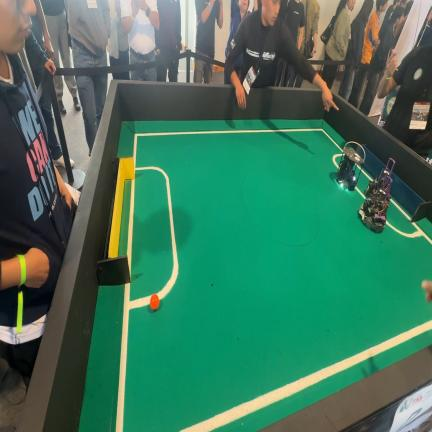limites: (133, 128, 343, 301), (180, 320, 432, 432), (116, 282, 151, 432), (386, 222, 432, 244), (127, 179, 135, 264), (391, 198, 410, 220), (359, 169, 372, 180), (355, 186, 365, 198)
pelota: (150, 294, 159, 311)
porteria: (97, 158, 134, 285)
robot: (359, 159, 394, 232), (336, 142, 365, 190)
